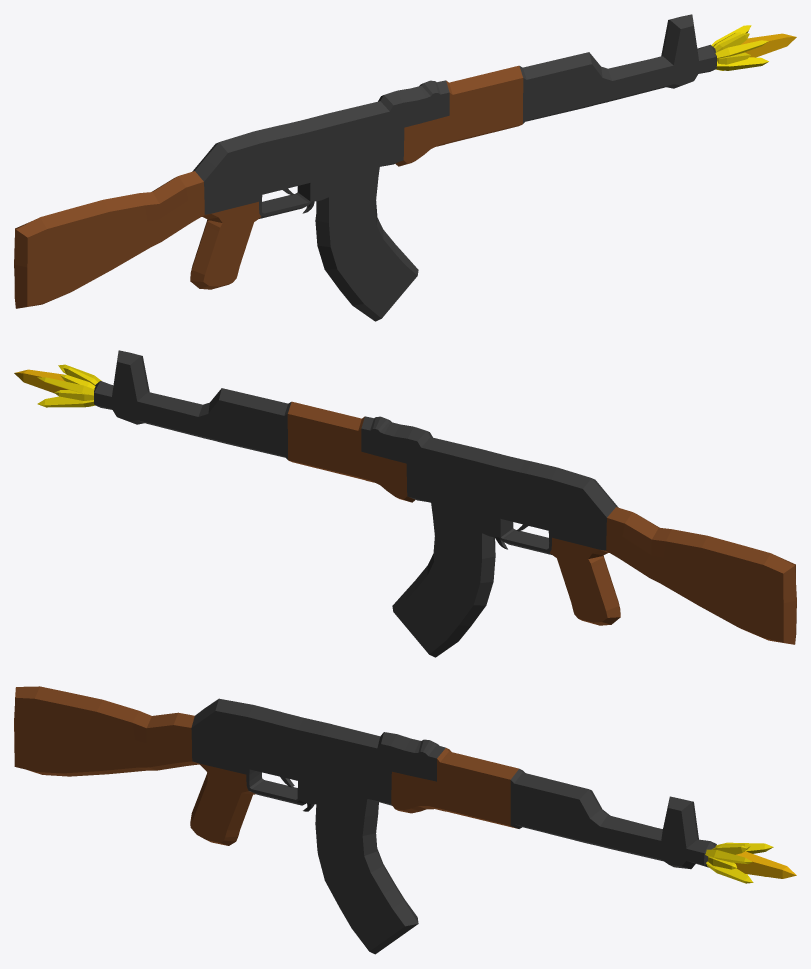
Rendered from rifle_muzzle.fbx.
3 views of the same model, one above another, from view 1: azimuth 30°, elevation 25°; view 2: azimuth 150°, elevation 25°; view 3: azimuth 330°, elevation 25° (orthographic).
Parts seen in each view (by area): view 1: Cube, Cube.007; view 2: Cube, Cube.007; view 3: Cube, Cube.007.
Part boxes in pixels (<box>): Cube: <box>14,14,716,321</box>; Cube.007: <box>711,25,796,70</box>; Cube: <box>94,350,796,657</box>; Cube.007: <box>14,364,101,407</box>; Cube: <box>14,686,716,954</box>; Cube.007: <box>705,842,796,883</box>.
Bounding box in the file's own units: 26.1 × 554 × 156.
